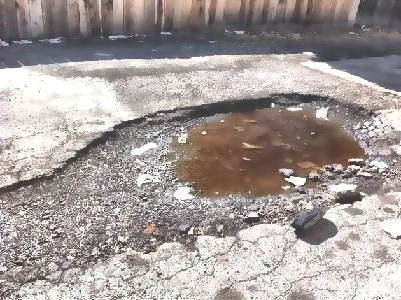pothole: (49, 89, 387, 281)
